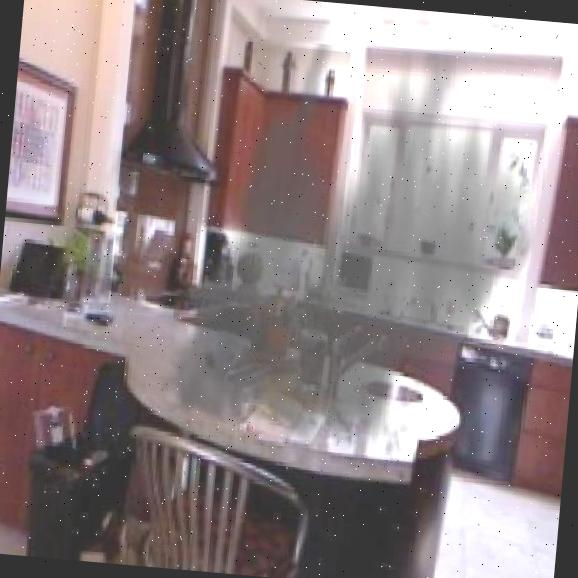smoke: (115, 72, 542, 450)
